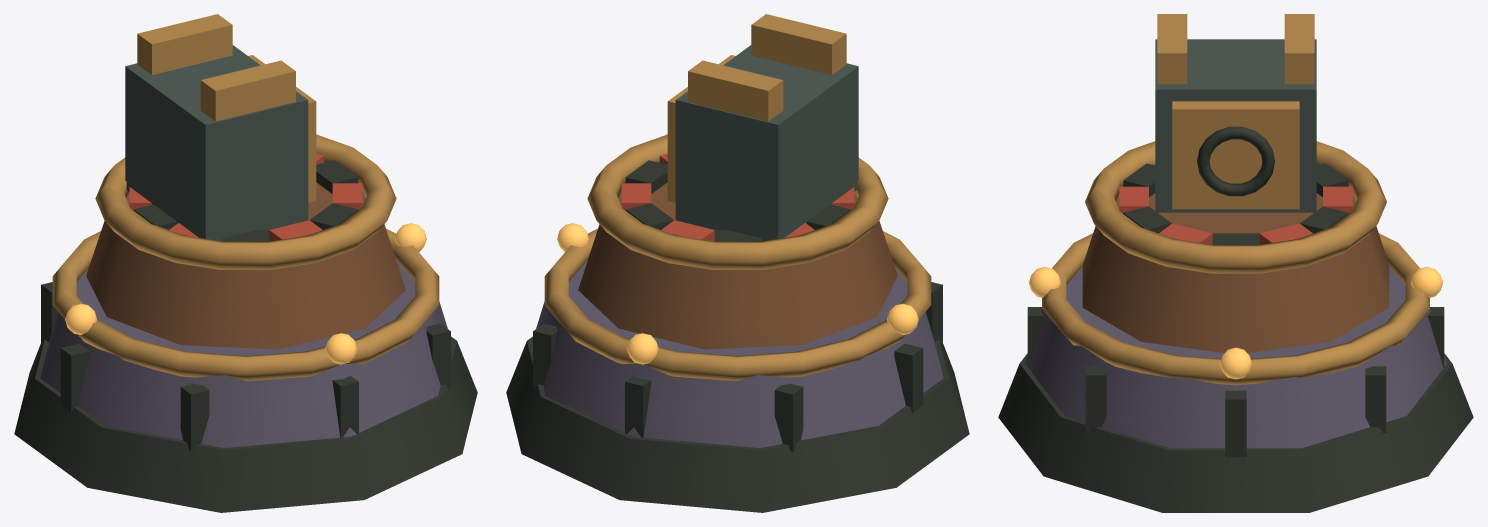
File: tower_gamble_gambleBank.glb
3 renders of one model, left to right at view 1: azimuth 30°, elevation 25°; view 2: azimuth 150°, elevation 25°; view 3: azimuth 270°, elevation 25°, orthographic.
Visible parts, largest first — view 1: foot_0, stone_1, table_15, vault_29, rim_2, roulette_rim_16, vault_crown_32, vault_crown_33, mortar_6, mortar_7, mortar_5, mortar_4 (+10 smaller); view 2: foot_0, stone_1, table_15, vault_29, rim_2, roulette_rim_16, vault_crown_32, vault_crown_33, mortar_8, mortar_7, mortar_9, mortar_10 (+10 smaller); view 3: foot_0, stone_1, table_15, roulette_rim_16, rim_2, vault_29, vault_door_30, safe_lock_31, vault_crown_32, vault_crown_33, mortar_3, mortar_4 (+15 smaller).
Part boxes in pixels (box(x1,y1,x2,y2)): foot_0: box(14, 336, 477, 512); stone_1: box(40, 260, 451, 447); table_15: box(86, 182, 405, 349); vault_29: box(125, 45, 308, 241); rim_2: box(52, 228, 439, 380); roulette_rim_16: box(95, 134, 396, 269); vault_crown_32: box(200, 60, 295, 121); vault_crown_33: box(137, 14, 232, 74); mortar_6: box(180, 383, 209, 451); mortar_7: box(60, 343, 89, 412); mortar_5: box(332, 375, 358, 437); mortar_4: box(426, 323, 450, 388); foot_0: box(506, 336, 969, 512); stone_1: box(532, 260, 943, 447); table_15: box(578, 182, 897, 349); vault_29: box(675, 45, 858, 241); rim_2: box(544, 228, 931, 380); roulette_rim_16: box(587, 134, 888, 269); vault_crown_32: box(751, 14, 846, 74); vault_crown_33: box(688, 60, 783, 121); mortar_8: box(774, 383, 803, 451); mortar_7: box(894, 343, 923, 412); mortar_9: box(625, 375, 651, 437); mortar_10: box(533, 323, 557, 388); foot_0: box(998, 353, 1473, 512); stone_1: box(1025, 267, 1446, 448); table_15: box(1082, 193, 1389, 353); roulette_rim_16: box(1085, 141, 1386, 273); rim_2: box(1042, 233, 1429, 385); vault_29: box(1155, 39, 1316, 212); vault_door_30: box(1172, 101, 1299, 209); safe_lock_31: box(1197, 126, 1274, 196); vault_crown_32: box(1157, 14, 1187, 84); vault_crown_33: box(1284, 14, 1314, 84); mortar_3: box(1225, 390, 1246, 457); mortar_4: box(1085, 366, 1106, 432).
Bounding box in the file's own units: 0.5326 × 0.48 × 0.56.
